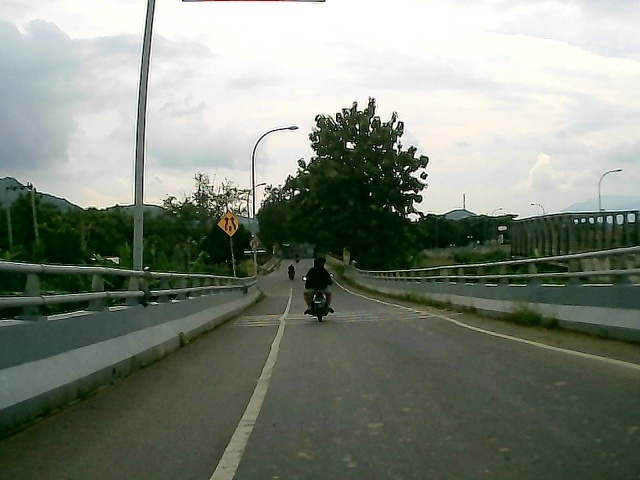Akhir bangunan pemisah satu arah: (213, 211, 243, 239)
